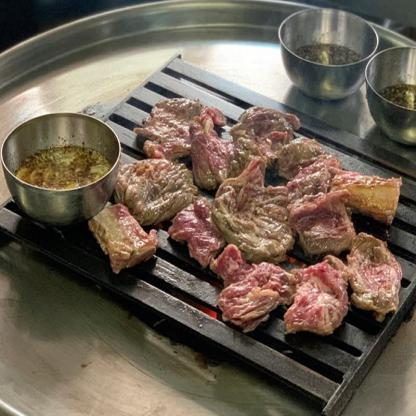Carne: (212, 161, 294, 261), (132, 101, 210, 164), (88, 201, 158, 271), (120, 159, 193, 222), (345, 230, 398, 312), (297, 193, 362, 244), (190, 137, 253, 189), (232, 113, 286, 166), (282, 133, 334, 188)
